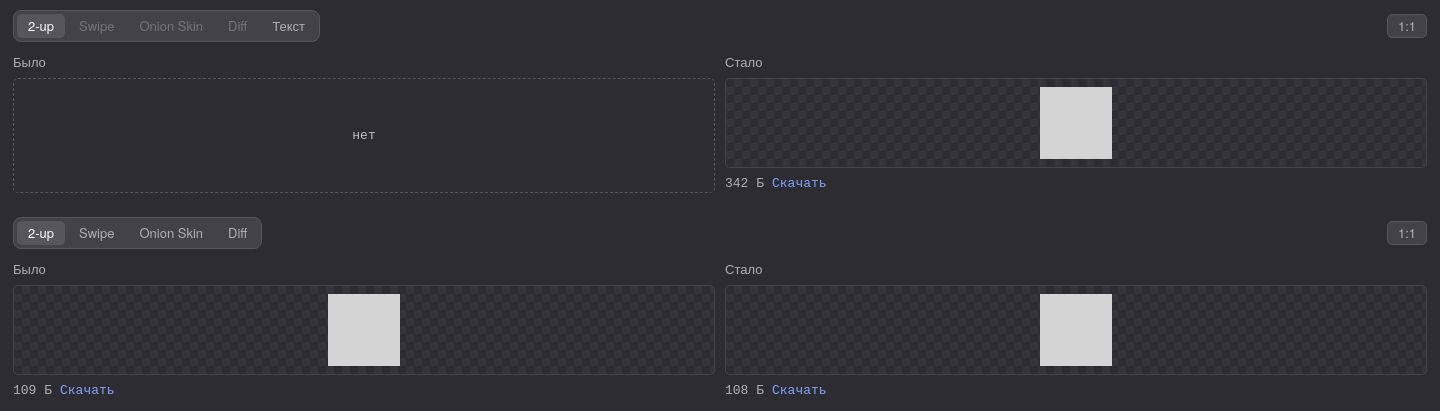
it: карточка-картинка › «Текст» есть только у картинки с текстовым патчем
The image size is (1440, 411).
What coordinates should you click on to do the following:
click the button with class "image-card__mode" showing "Текст"
I would click on:
 (289, 26)
Its box is top-left (261, 14), bottom-right (316, 38).
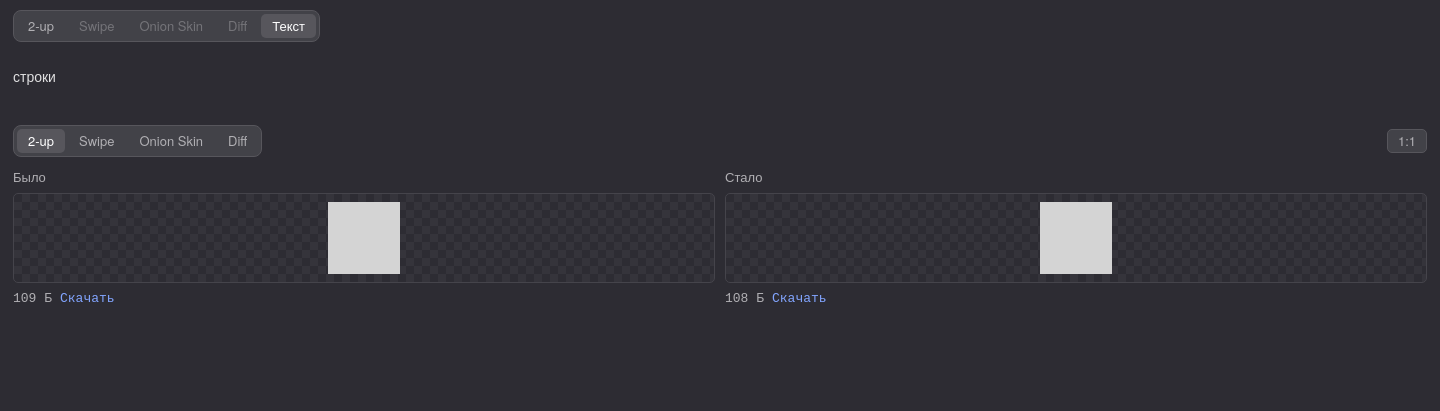
Expected: the text "строки" is shown, top-left (13, 66), bottom-right (56, 86)
